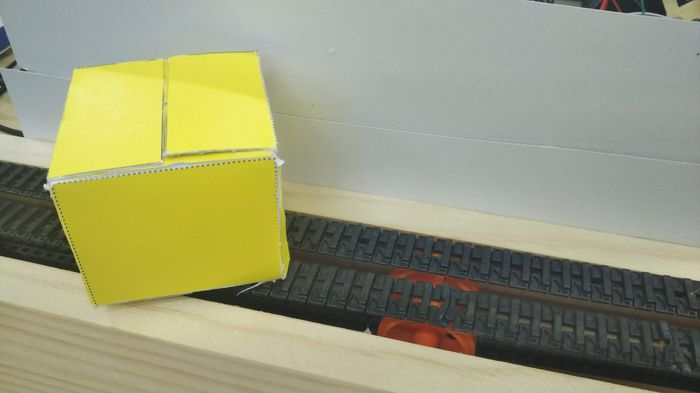box4: (45, 47, 291, 311)
